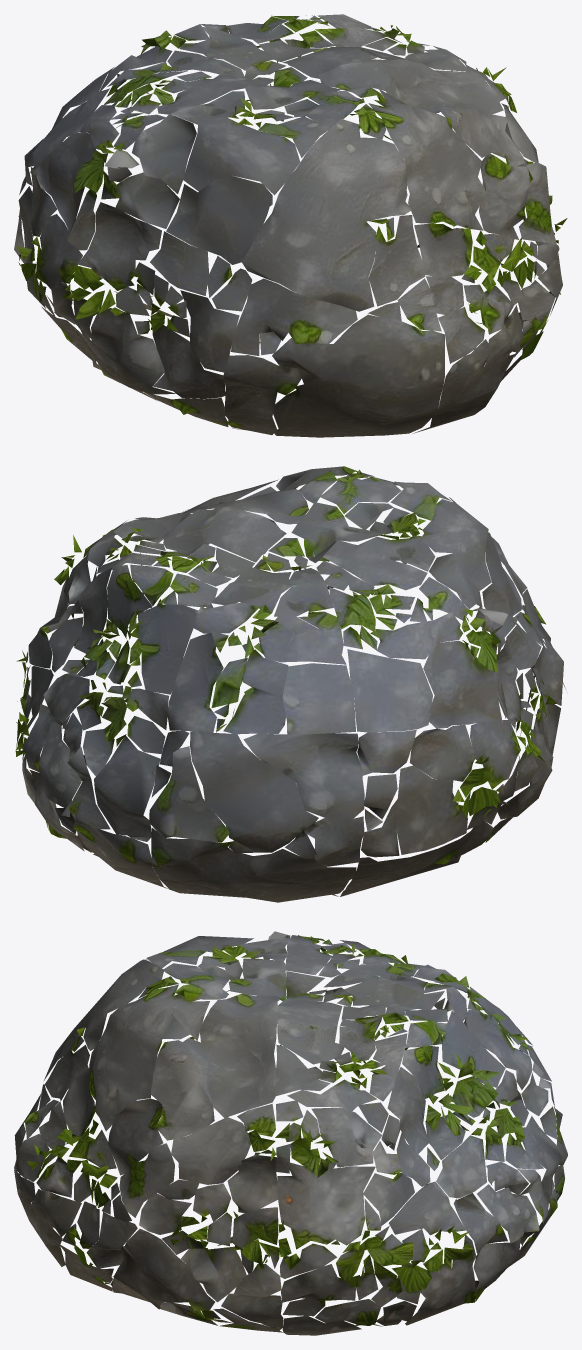
File: rock.glb
3 views of the same model, one above another, from view 1: azimuth 30°, elevation 25°; view 2: azimuth 150°, elevation 25°; view 3: azimuth 270°, elevation 25° (orthographic). The views are drawn at different scales.
Visible parts, largest first — view 1: tripo_node_a7a4d4b9-5ec5-47a5-82a8-701f9bdcebc2; view 2: tripo_node_a7a4d4b9-5ec5-47a5-82a8-701f9bdcebc2; view 3: tripo_node_a7a4d4b9-5ec5-47a5-82a8-701f9bdcebc2.
Part boxes in pixels (x1=…): tripo_node_a7a4d4b9-5ec5-47a5-82a8-701f9bdcebc2: x1=14, y1=14, x2=567, y2=437; tripo_node_a7a4d4b9-5ec5-47a5-82a8-701f9bdcebc2: x1=15, y1=466, x2=565, y2=902; tripo_node_a7a4d4b9-5ec5-47a5-82a8-701f9bdcebc2: x1=14, y1=931, x2=567, y2=1335.
Bounding box in the file's own units: 0.9563 × 0.5765 × 1.
1 material, 1 textured.
